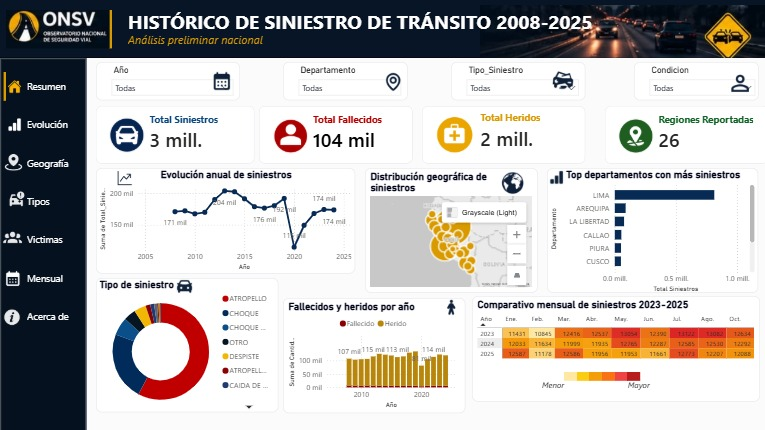

The page's visual inventory and layout, read from the dashboard file:
{"tool":"powerbi","page":{"name":"Página 1","canvas":[1280,720],"ordinal":0},"visuals":[{"type":"shape","box":[144,96,1136,625],"z":0},{"type":"shape","box":[939.9,620.7,22.4,14.7],"z":0,"group":"g1"},{"type":"shape","box":[0,0,1280,95],"z":1000},{"type":"shape","box":[960.9,620.7,22.4,14.7],"z":1000,"group":"g1"},{"type":"textbox","box":[208,32,1072,160],"z":2000},{"type":"shape","box":[982,620.7,22.4,14.7],"z":2000,"group":"g1"},{"type":"shape","box":[0,96,144,624],"z":3000},{"type":"shape","box":[1003.1,620.7,22.4,14.7],"z":3000,"group":"g1"},{"type":"textbox","box":[40,128,128,64],"z":4000},{"type":"shape","box":[1024.2,620.7,22.4,14.7],"z":4000,"group":"g1"},{"type":"textbox","box":[40,192,128,64],"z":5000},{"type":"shape","box":[1045.3,620.7,22.4,14.7],"z":5000,"group":"g1"},{"type":"textbox","box":[40,256,128,64],"z":6000},{"type":"textbox","box":[898.2,628.7,232,56],"z":6000,"group":"g1"},{"type":"textbox","box":[40,320,128,64],"z":7000},{"type":"textbox","box":[40,384,128,64],"z":8000},{"type":"textbox","box":[40,448,128,64],"z":9000},{"type":"textbox","box":[40,512,128,64],"z":10000},{"type":"shape","box":[0,120,16,48],"z":11000},{"type":"slicer","fields":{"Values":["Fact_Siniestros_Region.Año"]},"box":[160,104,240,64],"z":12000},{"type":"slicer","fields":{"Values":["Fact_Siniestros_Region.DEPARTAMENTO"]},"box":[472,104,208,64],"z":13000},{"type":"slicer","fields":{"Values":["Fact_Siniestros_Tipo.Tipo_Siniestro"]},"box":[752,104,224,64],"z":14000},{"type":"slicer","fields":{"Values":["Fact_Victimas.Condicion"]},"box":[1056,104,208,64],"z":15000},{"type":"cardVisual","fields":{"Data":["Fact_Siniestros_Region.Total Fallecidos"]},"box":[432,176,256,96],"z":16000},{"type":"cardVisual","fields":{"Data":["Fact_Siniestros_Region.Total Siniestros"]},"box":[160,176,264,96],"z":17000},{"type":"cardVisual","fields":{"Data":["Fact_Siniestros_Region.Total Heridos"]},"box":[704,176,272,96],"z":18000},{"type":"cardVisual","fields":{"Data":["Fact_Siniestros_Region.Regiones Reportadas"]},"box":[1008,176,272,96],"z":19000},{"type":"lineChart","title":"       Evolución anual de siniestros","fields":{"Category":["Fact_Siniestros_Region.Año"],"Y":["Sum(Fact_Siniestros_Region.Total_Siniestros)"]},"box":[160,280,432,176],"z":20000},{"type":"azureMap","title":"Distribución geográfica de siniestros","fields":{"Category":["Fact_Siniestros_Region.Ubicacion_Mapa"],"Size":["Fact_Siniestros_Region.Total Siniestros"]},"box":[608,280,288,208],"z":21000},{"type":"clusteredBarChart","title":"Top departamentos con más siniestros","fields":{"Category":["Fact_Siniestros_Region.Departamento"],"Y":["Fact_Siniestros_Region.Total Siniestros"]},"box":[912,280,352,208],"z":22000},{"type":"donutChart","title":"Tipo de siniestro","fields":{"Category":["Fact_Siniestros_Tipo.Tipo_Siniestro"],"Y":["Sum(Fact_Siniestros_Tipo.Cantidad)"]},"box":[160,464,304,224],"z":23000},{"type":"pivotTable","title":"Comparativo mensual de siniestros 2023-2025","fields":{"Rows":["Fact_Siniestros_Mensual.Año"],"Values":["Sum(Fact_Siniestros_Mensual.Siniestros)"],"Columns":["Dim_Meses.Mes_Corto"]},"box":[786.2,492.7,480,176],"z":24000},{"type":"columnChart","title":"Fallecidos y heridos por año","fields":{"Category":["Fact_Victimas.Año"],"Series":["Fact_Victimas.Condicion"],"Y":["Sum(Fact_Victimas.Cantidad)"]},"box":[472,496,304,192],"z":25000},{"type":"group","id":"g1","title":"Grupo 1","box":[898.2,620.7,232,64],"z":26000},{"type":"shape","box":[176,16,16,64],"z":27000},{"type":"image","box":[192,280,32,32],"z":28000},{"type":"image","box":[320,112,96,48],"z":29000},{"type":"image","box":[832,280,48,48],"z":30000},{"type":"image","box":[624,112,64,48],"z":31000},{"type":"image","box":[800,8,480,88],"z":32000},{"type":"image","box":[912,104,53,61],"z":33000},{"type":"image","box":[1208,112,48,56],"z":34000},{"type":"image","box":[728,480,48,64],"z":35000},{"type":"image","box":[912,272,32,48],"z":36000},{"type":"image","box":[8,152,32,112],"z":37000},{"type":"image","box":[0,416,40,96],"z":38000},{"type":"image","box":[0,496,40,64],"z":39000},{"type":"image","box":[0,248,45,45],"z":40000},{"type":"image","box":[8,128,32,32],"z":41000},{"type":"image","box":[0,352,42,85],"z":42000},{"type":"image","box":[8,304,40,56],"z":43000},{"type":"image","box":[272,456,72,40],"z":44000},{"type":"textbox","box":[208,8,1071,144],"z":45000},{"type":"image","box":[0,16,192,64],"z":46000}]}

Visuals, with their boxes on the page's 1280x720 design canvas (x1, y1, x2, y2). These are canvas units, not pixel positions in the 765x430 screenshot, which may show the page scaled, cropped or inside an application window:
shape: [144,96,1280,721]
shape: [940,621,962,635]
shape: [0,0,1280,95]
shape: [961,621,983,635]
textbox: [208,32,1280,192]
shape: [982,621,1004,635]
shape: [0,96,144,720]
shape: [1003,621,1026,635]
textbox: [40,128,168,192]
shape: [1024,621,1047,635]
textbox: [40,192,168,256]
shape: [1045,621,1068,635]
textbox: [40,256,168,320]
textbox: [898,629,1130,685]
textbox: [40,320,168,384]
textbox: [40,384,168,448]
textbox: [40,448,168,512]
textbox: [40,512,168,576]
shape: [0,120,16,168]
slicer - Fact_Siniestros_Region.Año: [160,104,400,168]
slicer - Fact_Siniestros_Region.DEPARTAMENTO: [472,104,680,168]
slicer - Fact_Siniestros_Tipo.Tipo_Siniestro: [752,104,976,168]
slicer - Fact_Victimas.Condicion: [1056,104,1264,168]
cardVisual - Fact_Siniestros_Region.Total Fallecidos: [432,176,688,272]
cardVisual - Fact_Siniestros_Region.Total Siniestros: [160,176,424,272]
cardVisual - Fact_Siniestros_Region.Total Heridos: [704,176,976,272]
cardVisual - Fact_Siniestros_Region.Regiones Reportadas: [1008,176,1280,272]
"       Evolución anual de siniestros" lineChart: [160,280,592,456]
"Distribución geográfica de siniestros" azureMap: [608,280,896,488]
"Top departamentos con más siniestros" clusteredBarChart: [912,280,1264,488]
"Tipo de siniestro" donutChart: [160,464,464,688]
"Comparativo mensual de siniestros 2023-2025" pivotTable: [786,493,1266,669]
"Fallecidos y heridos por año" columnChart: [472,496,776,688]
"Grupo 1" group: [898,621,1130,685]
shape: [176,16,192,80]
image: [192,280,224,312]
image: [320,112,416,160]
image: [832,280,880,328]
image: [624,112,688,160]
image: [800,8,1280,96]
image: [912,104,965,165]
image: [1208,112,1256,168]
image: [728,480,776,544]
image: [912,272,944,320]
image: [8,152,40,264]
image: [0,416,40,512]
image: [0,496,40,560]
image: [0,248,45,293]
image: [8,128,40,160]
image: [0,352,42,437]
image: [8,304,48,360]
image: [272,456,344,496]
textbox: [208,8,1279,152]
image: [0,16,192,80]
